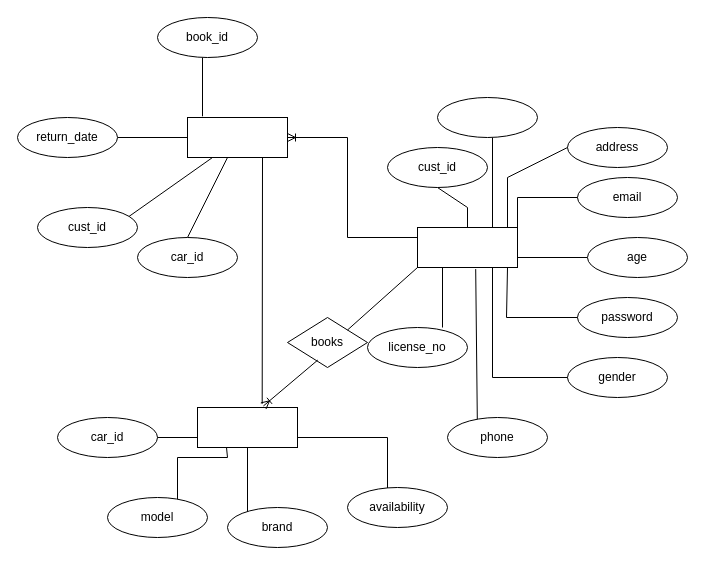
Some shapes in this 705 by 565 pixel diagram are drawn without their labels. The shapes that lost their labels are listed below. From the top down, each one's centre as x and y in pixels, then its label:
(x=237, y=137): bookingdetails
(x=487, y=117): name
(x=467, y=247): customer
(x=247, y=427): car
